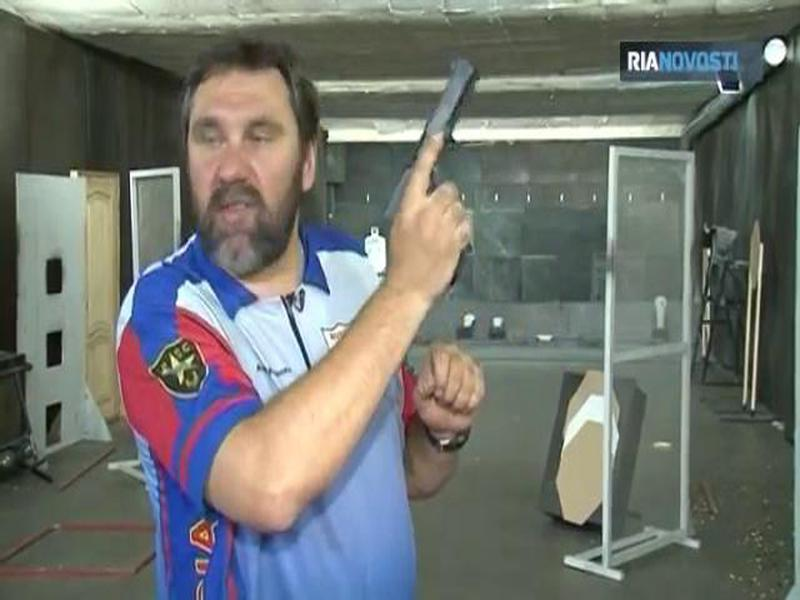Pistola: (369, 50, 509, 284)
